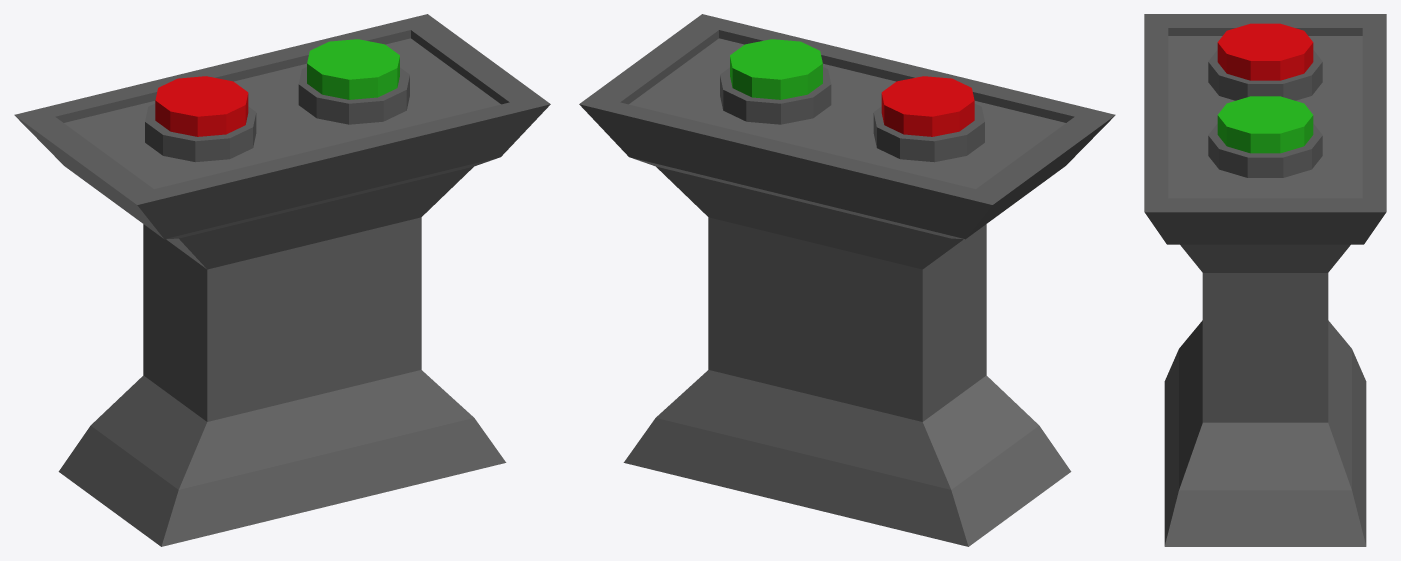
Rendered from atril.glb.
3 renders of one model, left to right at view 1: azimuth 30°, elevation 25°; view 2: azimuth 150°, elevation 25°; view 3: azimuth 270°, elevation 25°, orthographic.
Visible parts, largest first — view 1: Atril_Base, Boton_Rojo, Boton_Verde; view 2: Atril_Base, Boton_Rojo, Boton_Verde; view 3: Atril_Base, Boton_Rojo, Boton_Verde.
Boxes of the visible parts, x1=… form: Atril_Base: x1=14, y1=14, x2=550, y2=546; Boton_Rojo: x1=155, y1=76, x2=248, y2=136; Boton_Verde: x1=307, y1=39, x2=399, y2=99; Atril_Base: x1=579, y1=14, x2=1115, y2=546; Boton_Rojo: x1=881, y1=76, x2=974, y2=136; Boton_Verde: x1=730, y1=39, x2=822, y2=99; Atril_Base: x1=1144, y1=14, x2=1386, y2=546; Boton_Rojo: x1=1217, y1=23, x2=1313, y2=80; Boton_Verde: x1=1217, y1=96, x2=1313, y2=153.
Size of the model in its own units: 3.09 by 2.79 by 1.59.
